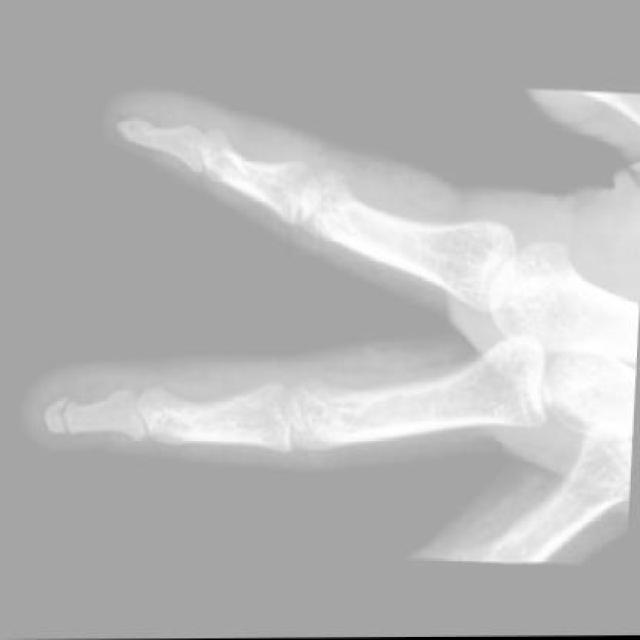Fracture: (45, 401, 81, 438)
